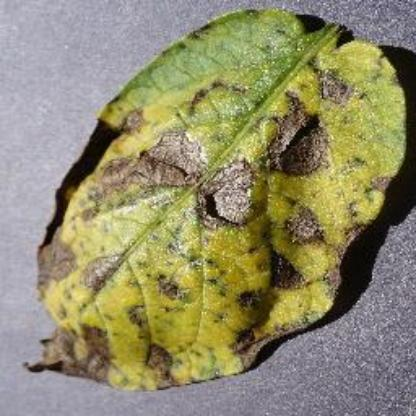Early-Blight: (17, 5, 416, 393)
